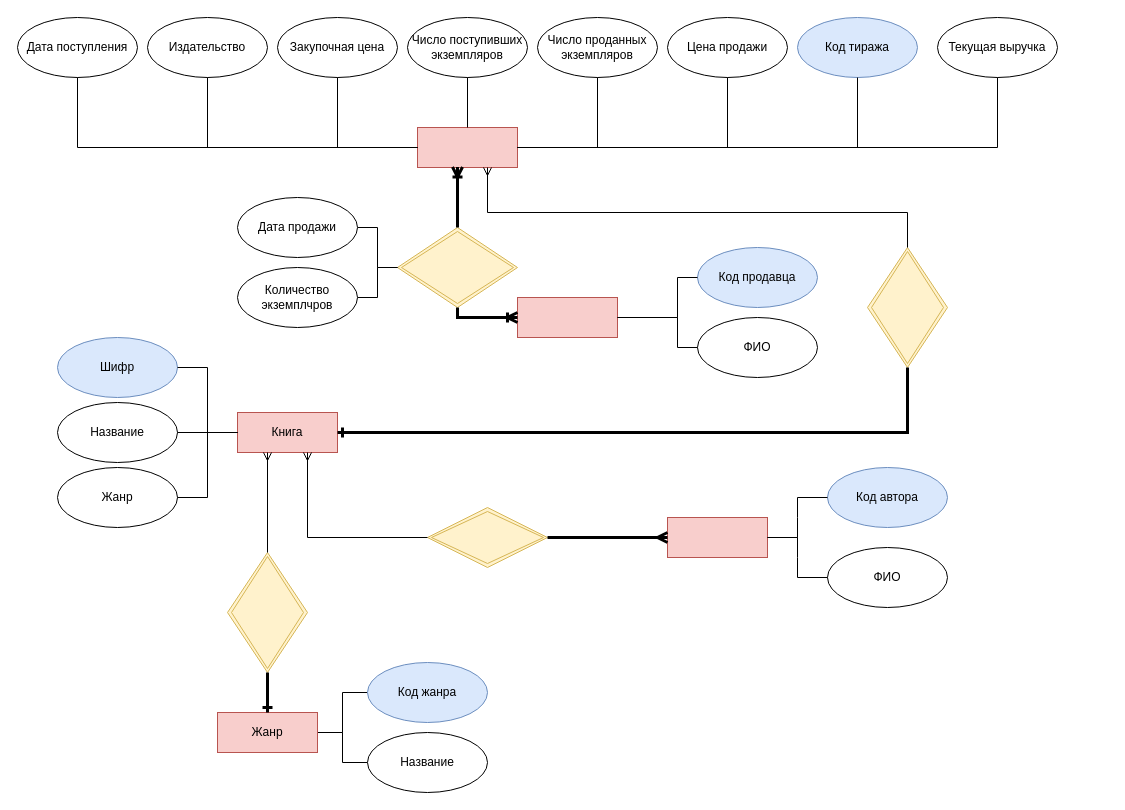
Image size: 1125x810. Some labels were removed from this diagram. Each missing label, with the centre of its shape:
"Автор" belongs at point 717,537.
"Выпускать" belongs at point 907,307.
"Написать" belongs at point 487,537.
"Относится" belongs at point 267,612.
"Продавать" belongs at point 457,267.
"Продавец" belongs at point 567,317.
"Тираж" belongs at point 467,147.
